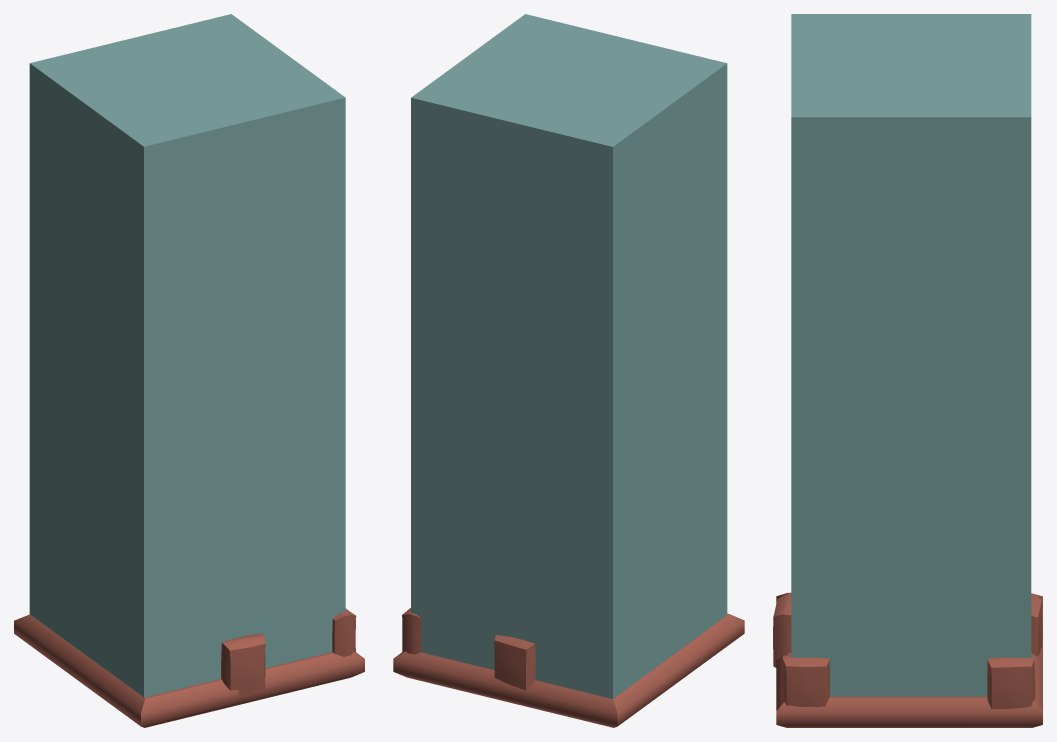
The model's file is house erker.fbx.
3 renders of one model, left to right at view 1: azimuth 30°, elevation 25°; view 2: azimuth 150°, elevation 25°; view 3: azimuth 270°, elevation 25°, orthographic. The views are drawn at different scales.
Parts seen in each view (by area): view 1: Erker1, erkerFloor1, Brick4, Brick7; view 2: Erker1, erkerFloor1, Brick5, Brick6; view 3: Erker1, erkerFloor1, Brick6, Brick7, Brick4, Brick5.
Part boxes in pixels (x1=…): Erker1: x1=29, y1=14, x2=345, y2=697; erkerFloor1: x1=14, y1=614, x2=364, y2=727; Brick4: x1=221, y1=633, x2=265, y2=695; Brick7: x1=332, y1=608, x2=356, y2=656; Erker1: x1=411, y1=14, x2=727, y2=698; erkerFloor1: x1=393, y1=613, x2=744, y2=727; Brick5: x1=494, y1=635, x2=535, y2=689; Brick6: x1=402, y1=608, x2=421, y2=654; Erker1: x1=791, y1=14, x2=1031, y2=696; erkerFloor1: x1=776, y1=592, x2=1042, y2=727; Brick6: x1=987, y1=655, x2=1035, y2=709; Brick7: x1=782, y1=655, x2=829, y2=707; Brick4: x1=773, y1=594, x2=791, y2=667; Brick5: x1=1031, y1=595, x2=1042, y2=656.
Size of the model in its own units: 61.26 by 151 by 60.8.
